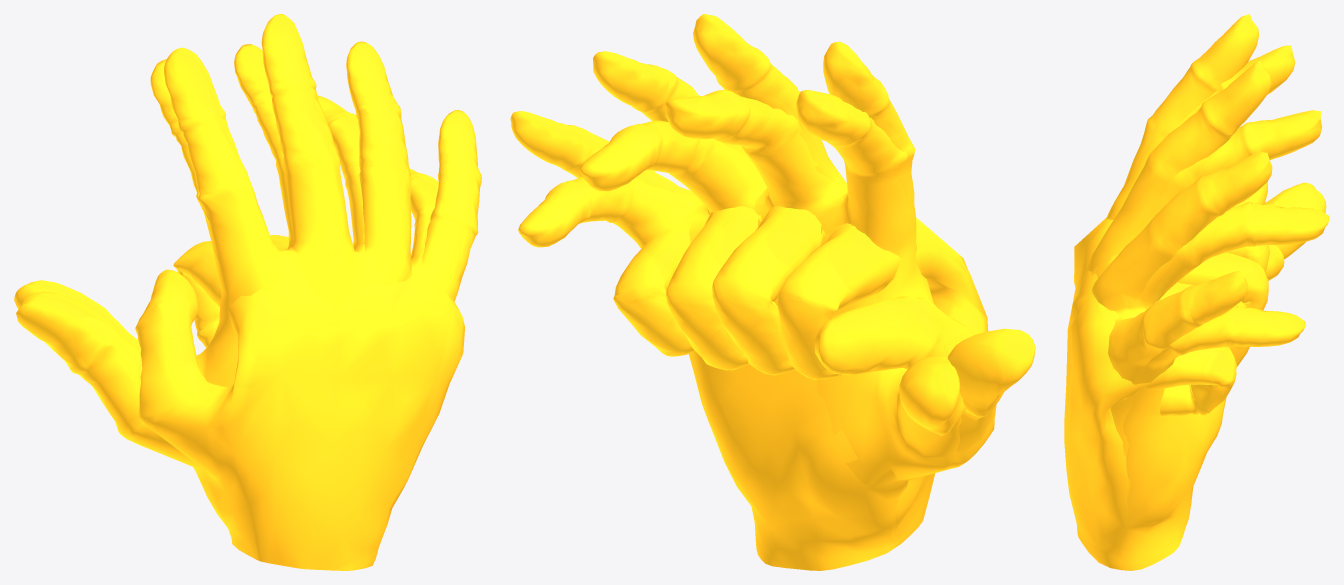
The model's file is ghost-hand-theremin.glb.
3 renders of one model, left to right at view 1: azimuth 30°, elevation 25°; view 2: azimuth 150°, elevation 25°; view 3: azimuth 270°, elevation 25°, orthographic. The views are drawn at different scales.
Parts seen in each view (by area): view 1: ThereminHand_Fist, ThereminHand_Open, ThereminHand_Relaxed; view 2: ThereminHand_Open, ThereminHand_Relaxed, ThereminHand_Fist; view 3: ThereminHand_Open, ThereminHand_Fist, ThereminHand_Relaxed.
Boxes of the visible parts, left/top/right/bottom form: ThereminHand_Fist: left=135, top=235, right=464, bottom=570; ThereminHand_Open: left=16, top=14, right=481, bottom=570; ThereminHand_Relaxed: left=14, top=44, right=438, bottom=570; ThereminHand_Open: left=510, top=14, right=1035, bottom=570; ThereminHand_Relaxed: left=518, top=90, right=965, bottom=553; ThereminHand_Fist: left=613, top=206, right=988, bottom=567; ThereminHand_Open: left=1078, top=14, right=1272, bottom=570; ThereminHand_Fist: left=1064, top=217, right=1284, bottom=570; ThereminHand_Relaxed: left=1077, top=45, right=1329, bottom=569.
Bounding box in the file's own units: 0.1743 × 0.1861 × 0.0898.
